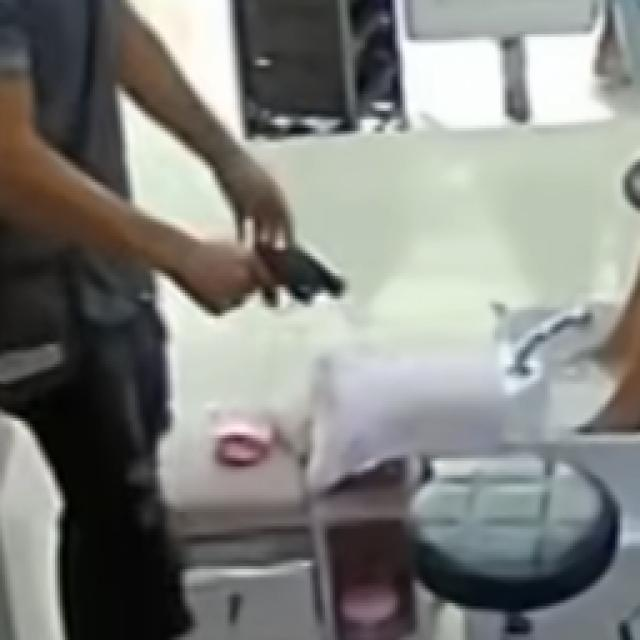Revolver: (249, 234, 351, 325)
